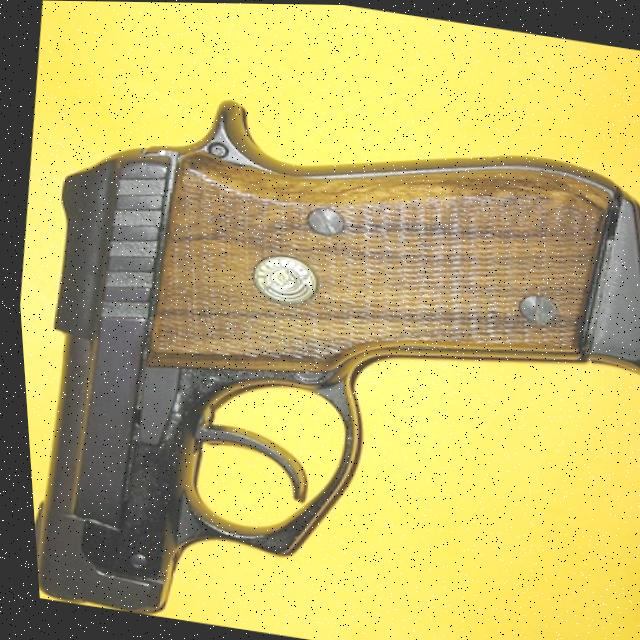pistol: (4, 71, 640, 640)
